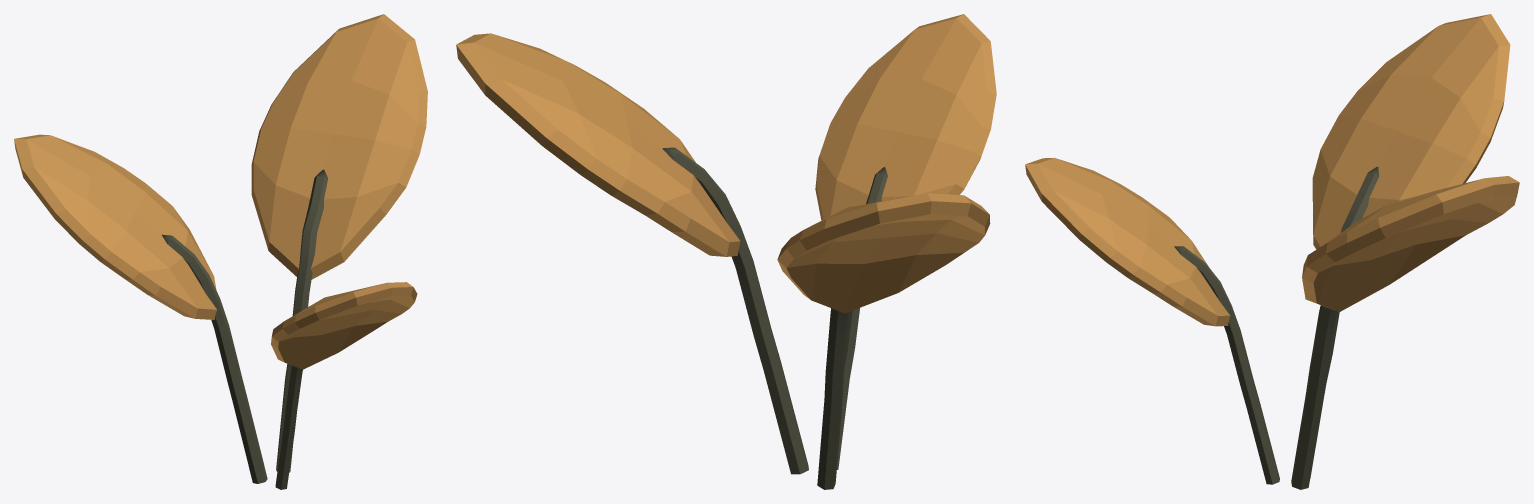
Rendered from Plant1.fbx.
3 renders of one model, left to right at view 1: azimuth 30°, elevation 25°; view 2: azimuth 150°, elevation 25°; view 3: azimuth 270°, elevation 25°, orthographic. The views are drawn at different scales.
Parts seen in each view (by area): view 1: LageBlaadjes; view 2: LageBlaadjes; view 3: LageBlaadjes.
Boxes of the visible parts, x1,y1,x2,y2 form: LageBlaadjes: (14,14,427,489); LageBlaadjes: (456,14,996,489); LageBlaadjes: (1025,14,1519,489).
Bounding box in the file's own units: 0.0403 × 0.0352 × 0.0382.
